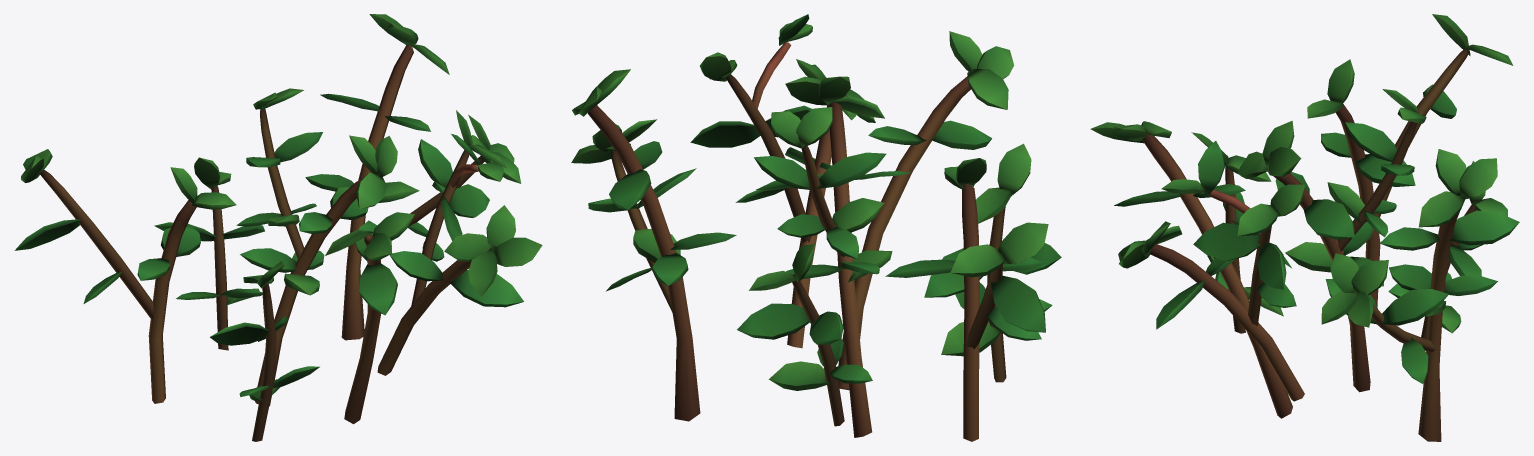
File: SM_Plant_Blueberry_Lv1.fbx
The picture shows the model from 3 angles, left to right: view 1: azimuth 30°, elevation 25°; view 2: azimuth 150°, elevation 25°; view 3: azimuth 270°, elevation 25°; orthographic projection. The views are drawn at different scales.
Visible parts, largest first — view 1: SM_Plant_Blueberry_Lv1; view 2: SM_Plant_Blueberry_Lv1; view 3: SM_Plant_Blueberry_Lv1.
Boxes of the visible parts, box(x1,y1,x2,y2) form: SM_Plant_Blueberry_Lv1: box(14, 14, 542, 441); SM_Plant_Blueberry_Lv1: box(571, 14, 1061, 441); SM_Plant_Blueberry_Lv1: box(1090, 14, 1519, 441).
Size of the model in its own units: 50.58 by 32.78 by 39.04.
